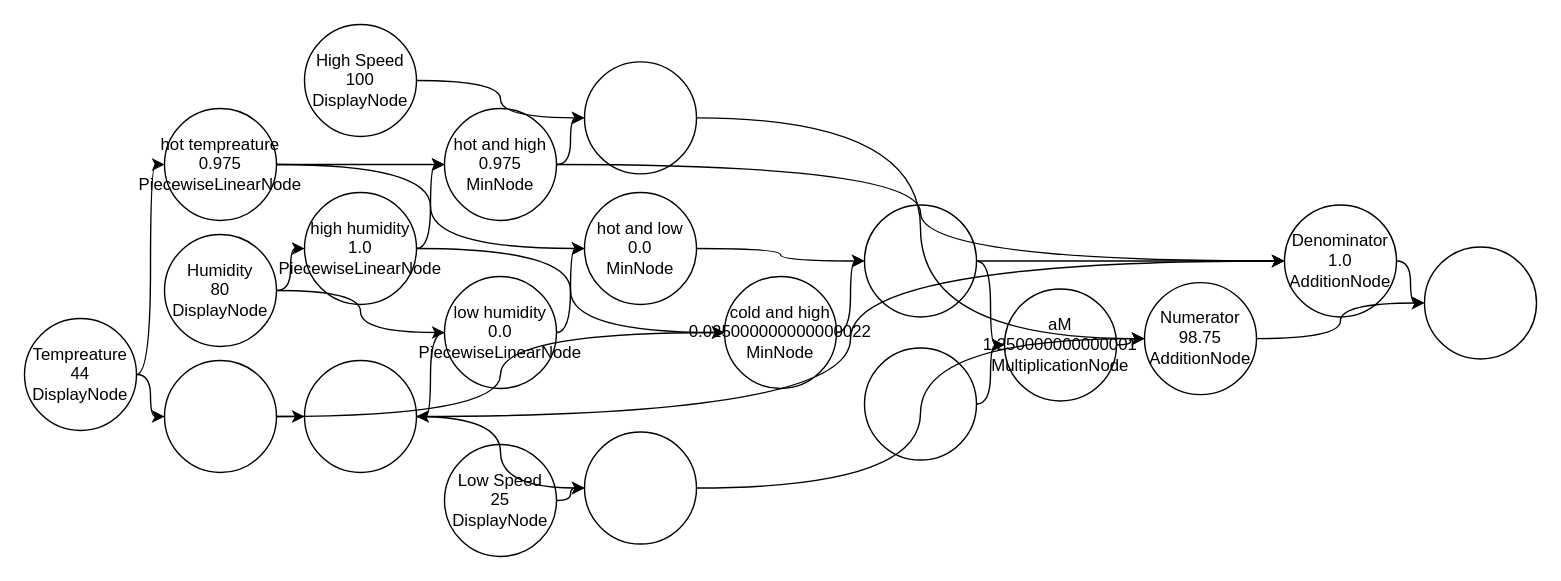
Some shapes in this 1561 by 581 pixel diagram are drawn without their labels. Each missing label, with the box of its shape:
aH 97.5 MultiplicationNode: (583, 60, 696, 174)
aL 0.0 MultiplicationNode: (583, 431, 696, 544)
cold and low 0.0 MinNode: (303, 359, 416, 472)
cold tempreature 0.025000000000000022 PiecewiseLinearNode: (163, 359, 276, 472)
Fanspeed 98.75 DivisionNode: (1423, 246, 1536, 359)
hot and low or cold and high 0.025000000000000022 MaxNode: (863, 204, 976, 317)
Moderate Speed 50 DisplayNode: (863, 347, 976, 460)
